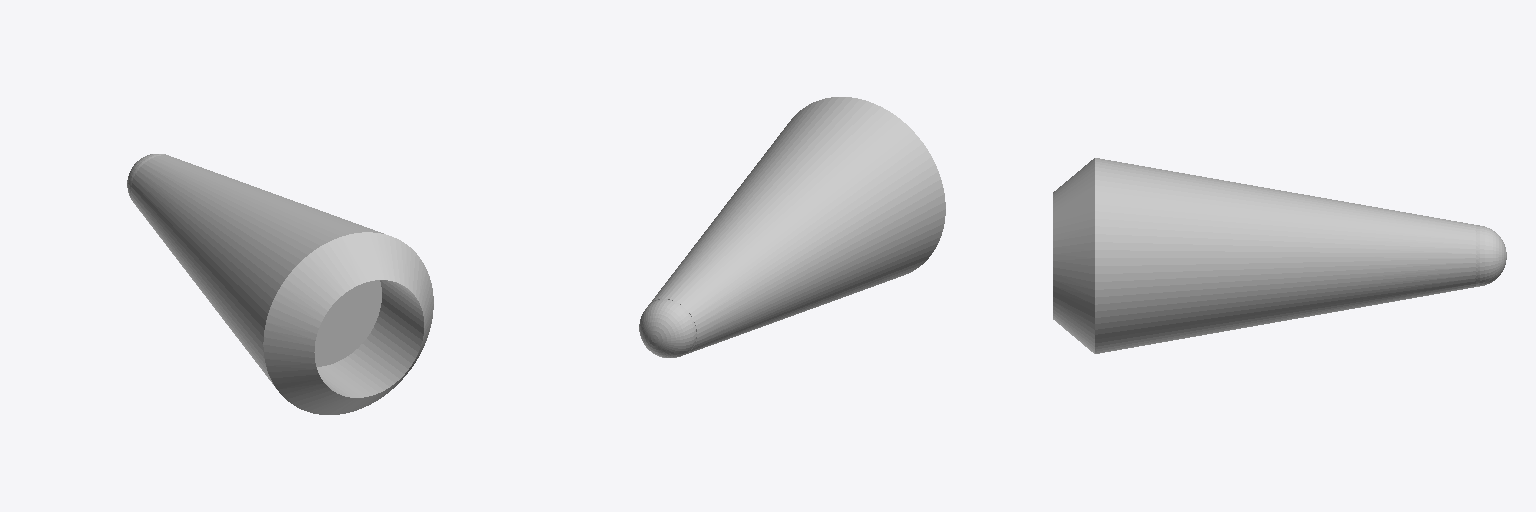
The model's file is Torche.obj.
3 views of the same model, side by side, from view 1: azimuth 30°, elevation 25°; view 2: azimuth 150°, elevation 25°; view 3: azimuth 270°, elevation 25° (orthographic).
Visible parts, largest first — view 1: Torche; view 2: Torche; view 3: Torche.
Part boxes in pixels (bbox=[...]): Torche: bbox=[127, 154, 433, 414]; Torche: bbox=[639, 97, 945, 357]; Torche: bbox=[1053, 158, 1506, 353].
Size of the model in its own units: 93.05 by 93.05 by 215.